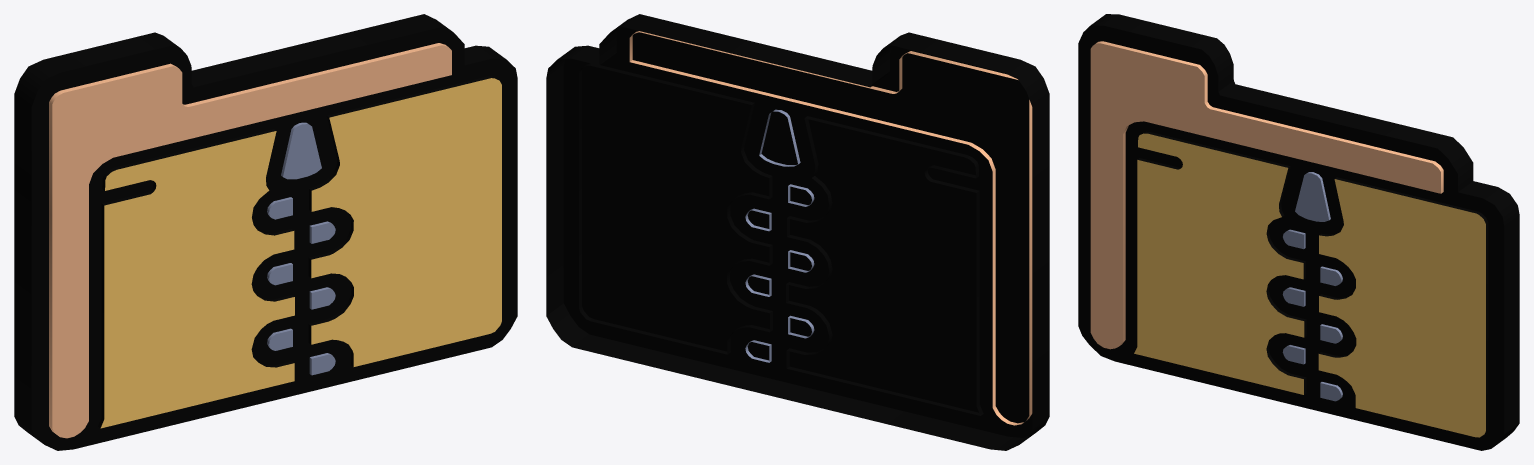
Rendered from zip_3d.glb.
The picture shows the model from 3 angles, left to right: view 1: azimuth 30°, elevation 25°; view 2: azimuth 150°, elevation 25°; view 3: azimuth 330°, elevation 25°; orthographic projection. The views are drawn at different scales.
Visible parts, largest first — view 1: Line004; view 2: Line004; view 3: Line004.
Part boxes in pixels (<box>): Line004: <box>14,14,517,450</box>; Line004: <box>546,14,1049,450</box>; Line004: <box>1078,14,1519,450</box>.
Size of the model in its own units: 0.1204 by 0.0899 by 0.00886.
1 material, 1 textured.
